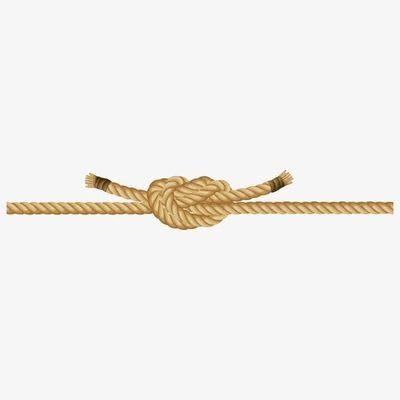9/可回收垃圾/绳子: (6, 170, 395, 231)
